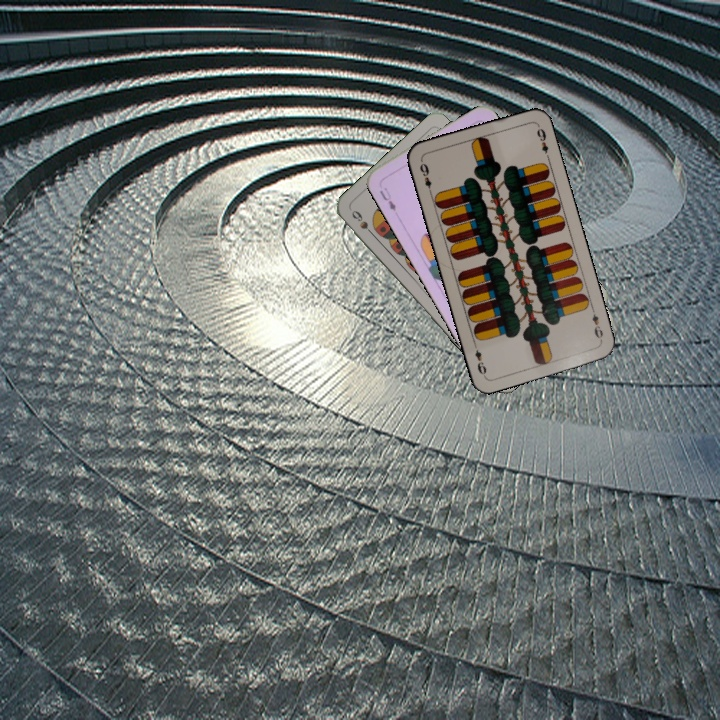E9: (587, 304, 606, 344), (416, 157, 434, 197)
EU: (375, 183, 399, 214)
S9: (348, 206, 378, 240)
